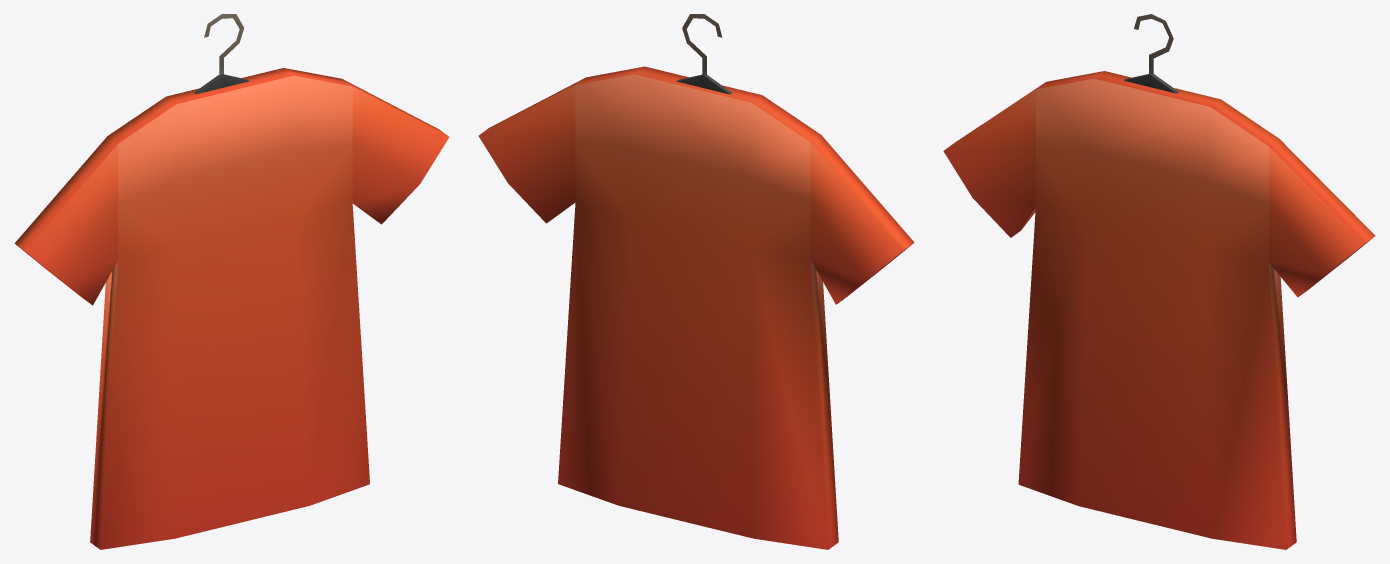
Rendered from Hang_Tshirt_03.FBX.
3 views of the same model, side by side, from view 1: azimuth 30°, elevation 25°; view 2: azimuth 150°, elevation 25°; view 3: azimuth 330°, elevation 25° (orthographic).
Visible parts, largest first — view 1: Hang_Tshirt_03; view 2: Hang_Tshirt_03; view 3: Hang_Tshirt_03.
Boxes of the visible parts, <box> form: Hang_Tshirt_03: <box>14,14,449,549</box>; Hang_Tshirt_03: <box>478,14,914,549</box>; Hang_Tshirt_03: <box>943,14,1375,549</box>.
Bounding box in the file's own units: 0.6186 × 0.0621 × 0.6963.
